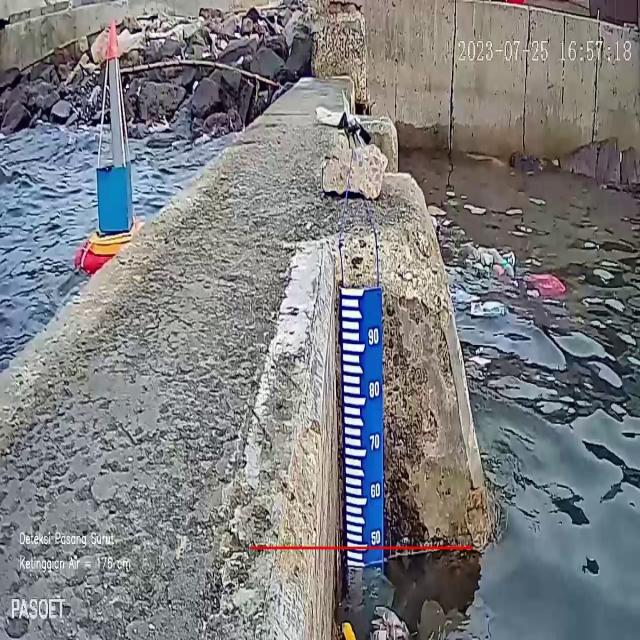50: (371, 530, 382, 545)
60: (370, 480, 380, 500)
70: (369, 433, 380, 451)
80: (368, 379, 381, 399)
90: (367, 327, 379, 347)
staff: (340, 286, 384, 548)
